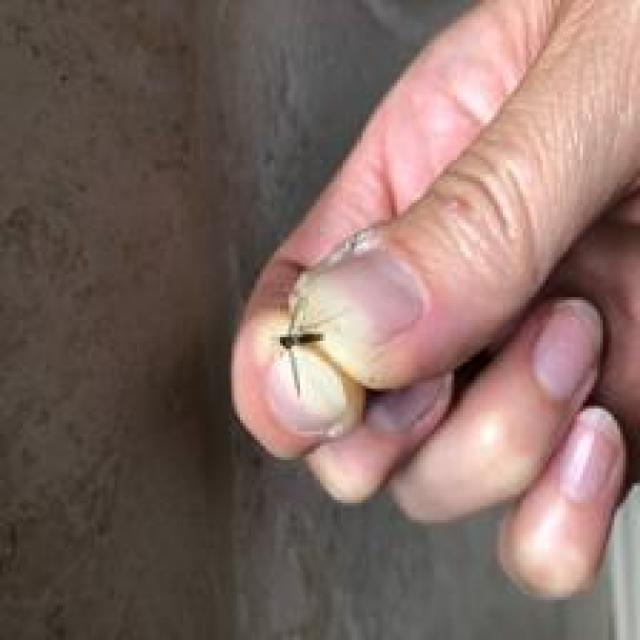Culex: (276, 292, 347, 397)
